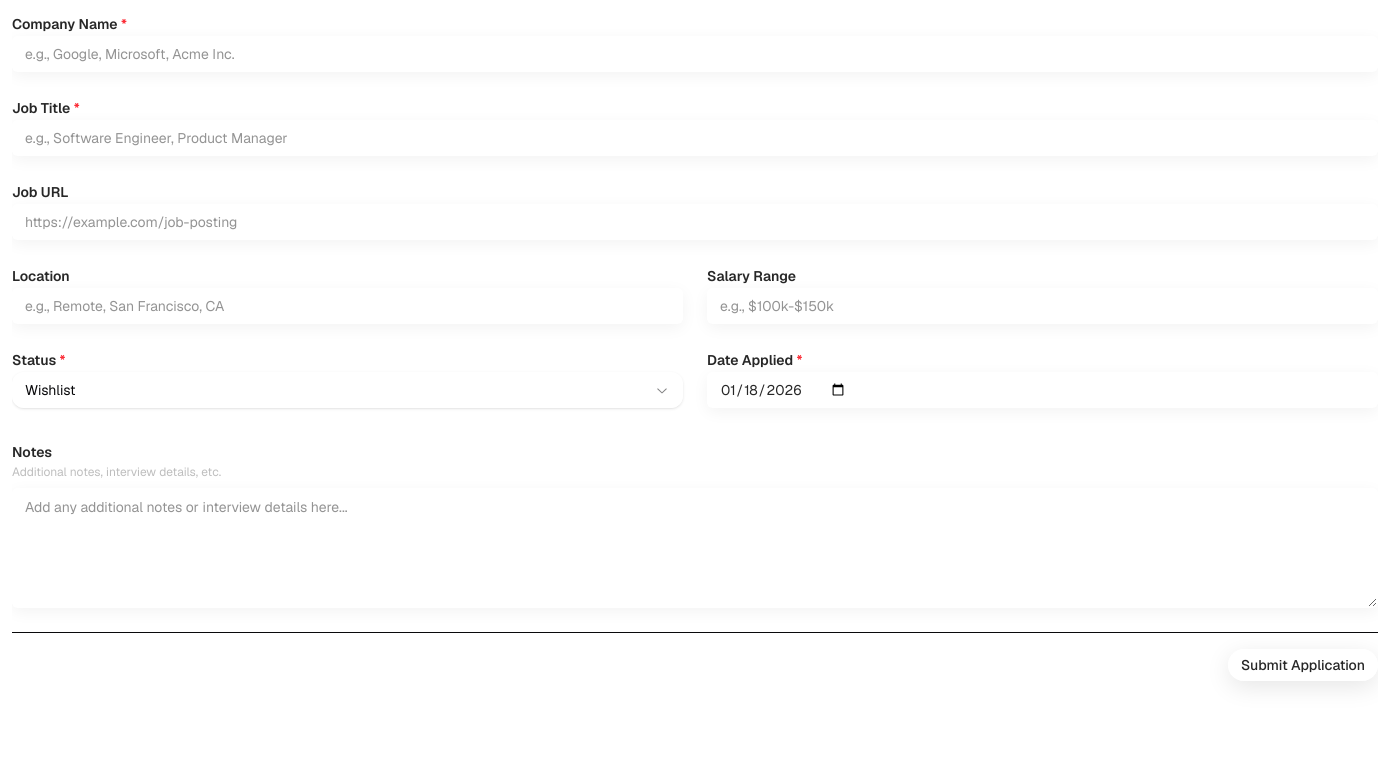
ApplicationForm › Validation - Required Fields › should show error when company name is empty
Click the button "Submit Application" at x=1303, y=665, box 1228,649 -> 1378,681
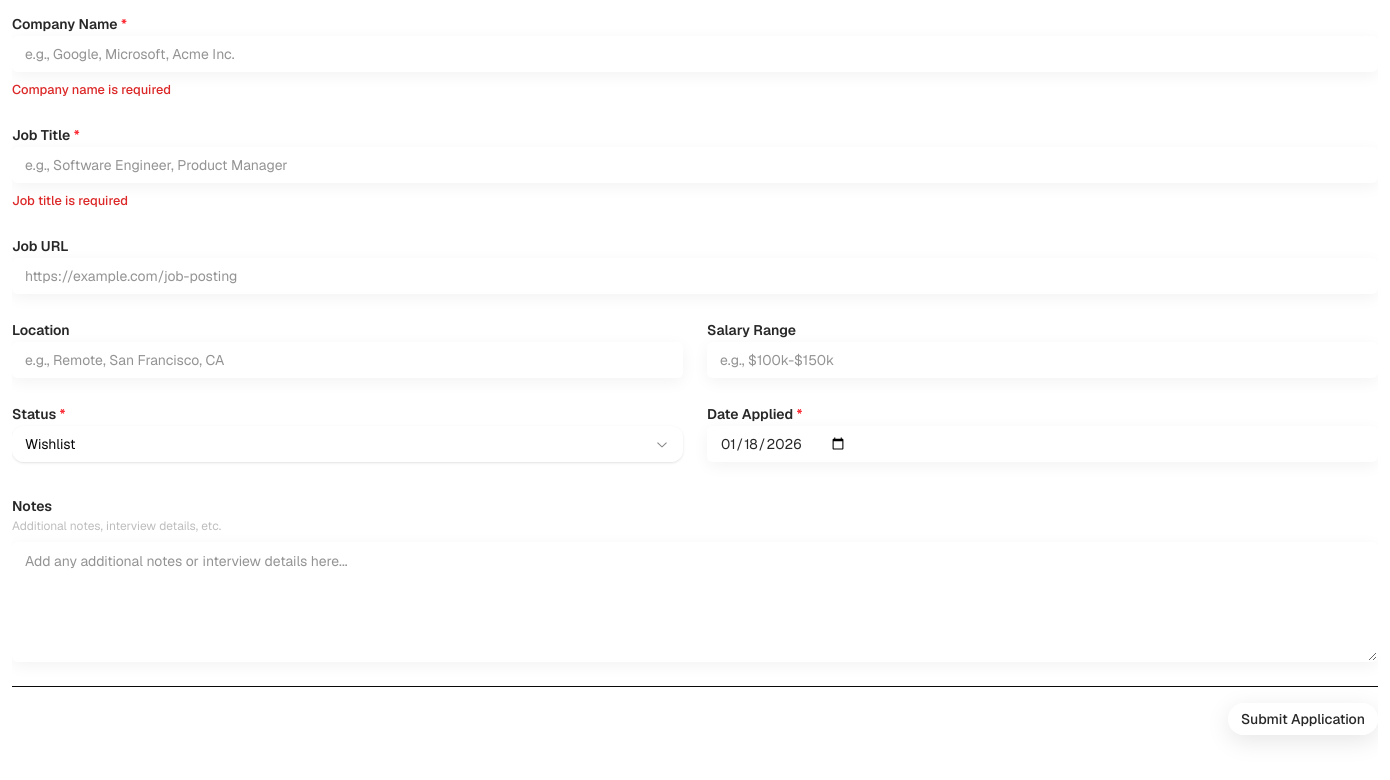
Result: the text "Company name is required" is shown at 12,81 -> 171,98
